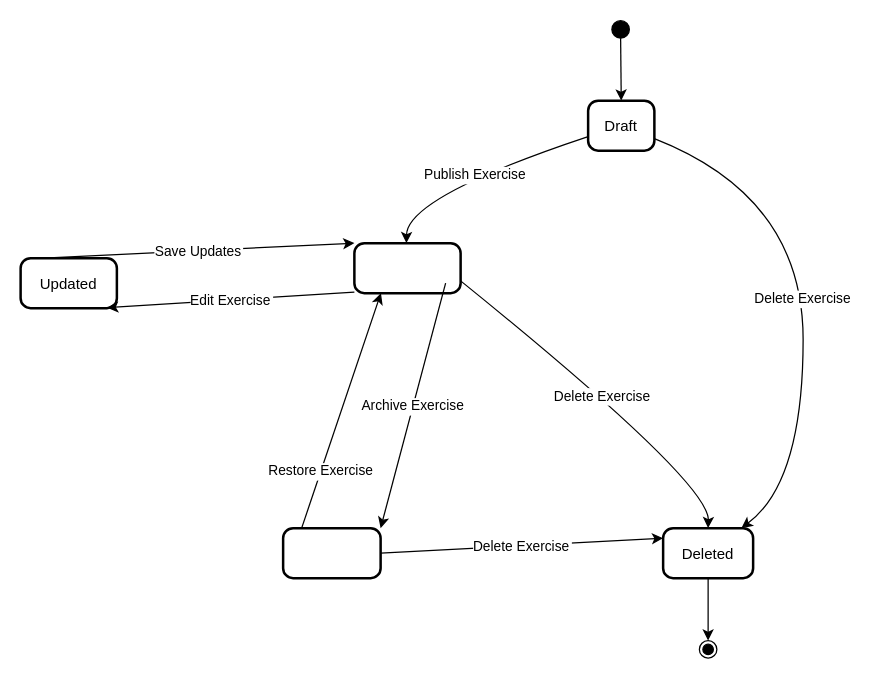
Image size: 874x679. Some labels were removed from this diagram. Here are the shapes that lost their labels. From the top down, the centre of each, then its label:
At (x=406, y=267): "Published".
At (x=331, y=552): "Archived".
